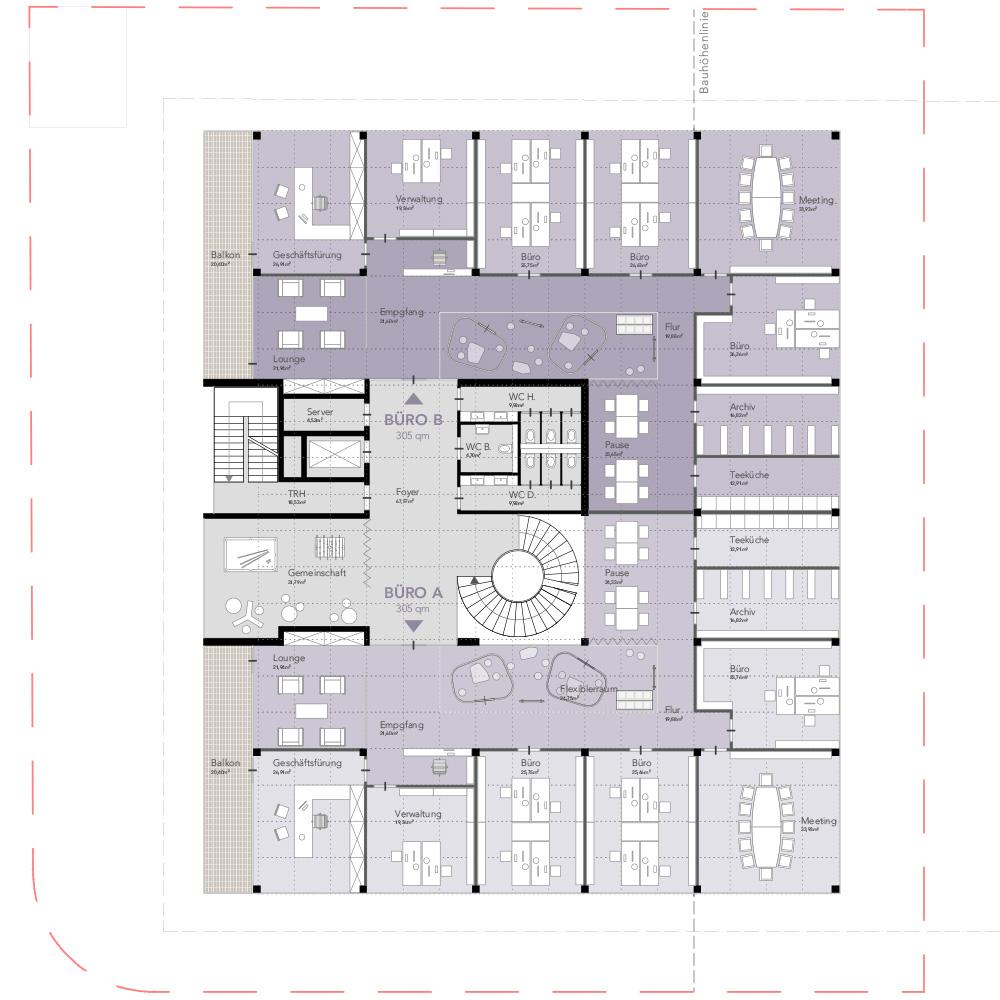room: (204, 515, 368, 642), (698, 750, 840, 892), (697, 132, 839, 274), (459, 382, 586, 512), (584, 132, 698, 274), (585, 749, 698, 891), (476, 749, 587, 892), (254, 749, 365, 892), (695, 274, 839, 383), (254, 134, 366, 274), (476, 132, 585, 275), (696, 642, 839, 750), (364, 131, 476, 238), (365, 786, 475, 892), (696, 382, 840, 456), (695, 567, 841, 639), (695, 454, 840, 511), (695, 512, 840, 568), (281, 395, 367, 432), (305, 434, 367, 479), (280, 434, 304, 480)
